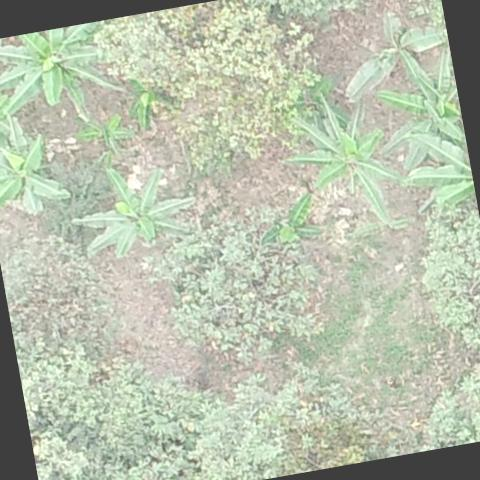Banana-plant: (273, 79, 408, 245), (58, 151, 208, 270), (327, 0, 459, 119), (0, 18, 133, 133), (378, 45, 470, 172), (0, 109, 80, 221), (250, 180, 330, 258), (63, 102, 143, 160)
